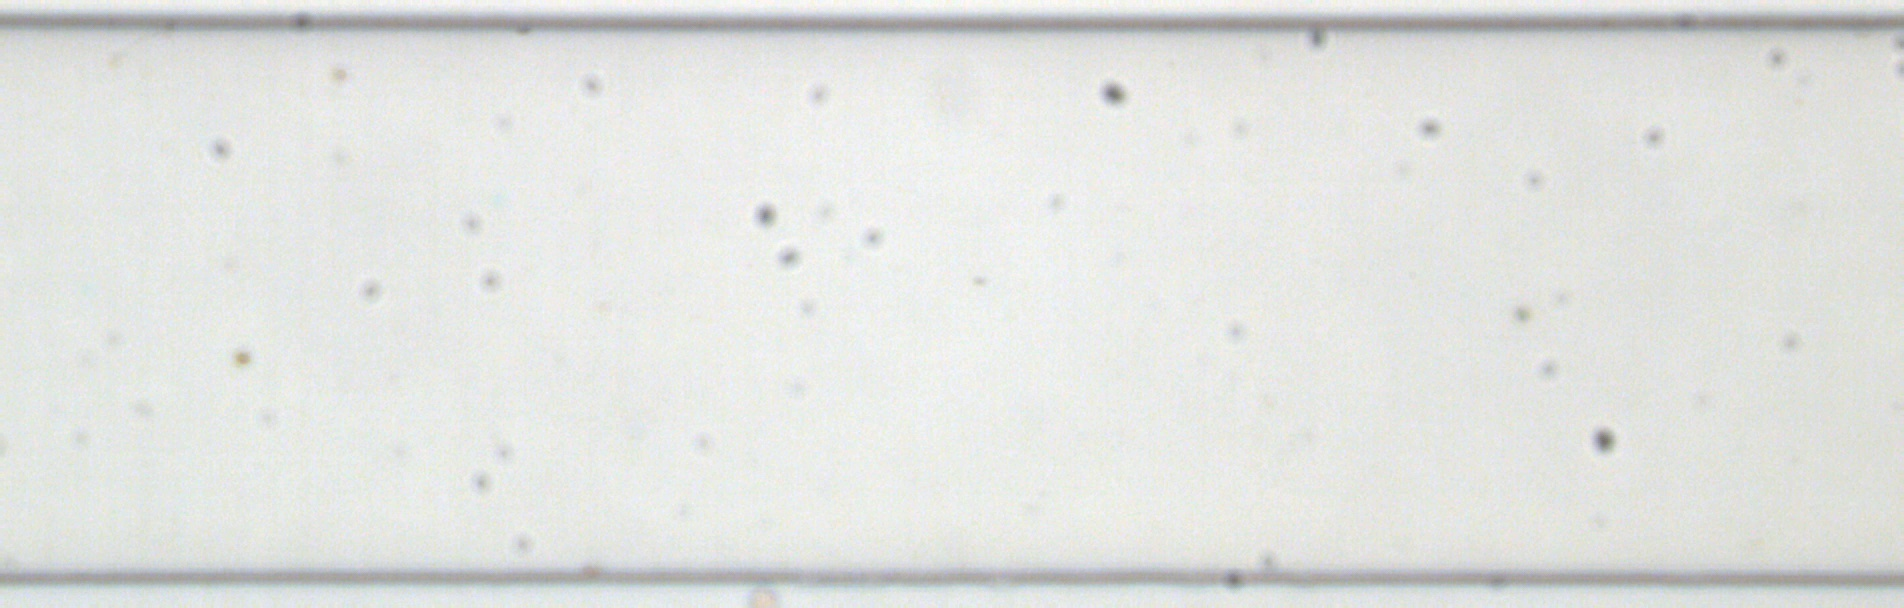Chlorella: (1511, 303, 1532, 326), (232, 348, 253, 369), (330, 62, 348, 83)
